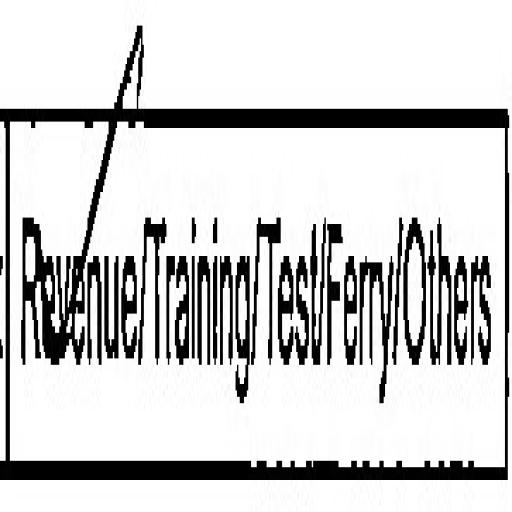check: (0, 0, 145, 509)
